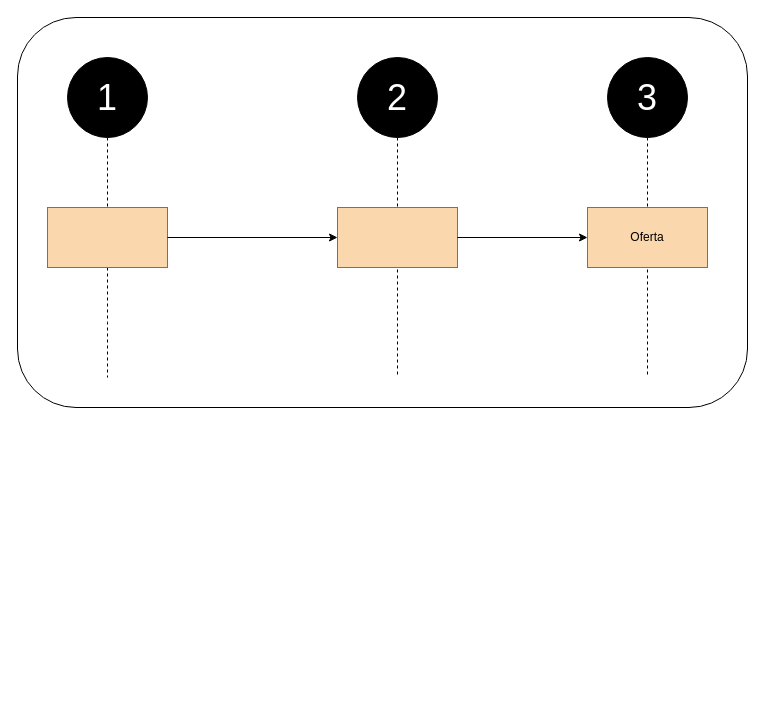
Some shapes in this 765 by 725 pixel diagram are drawn without their labels. Here are the shapes that lost their labels. From the top down, the centre of each, then its label:
At point (107, 237): "TipoServicio".
At point (397, 237): "Servicio".
